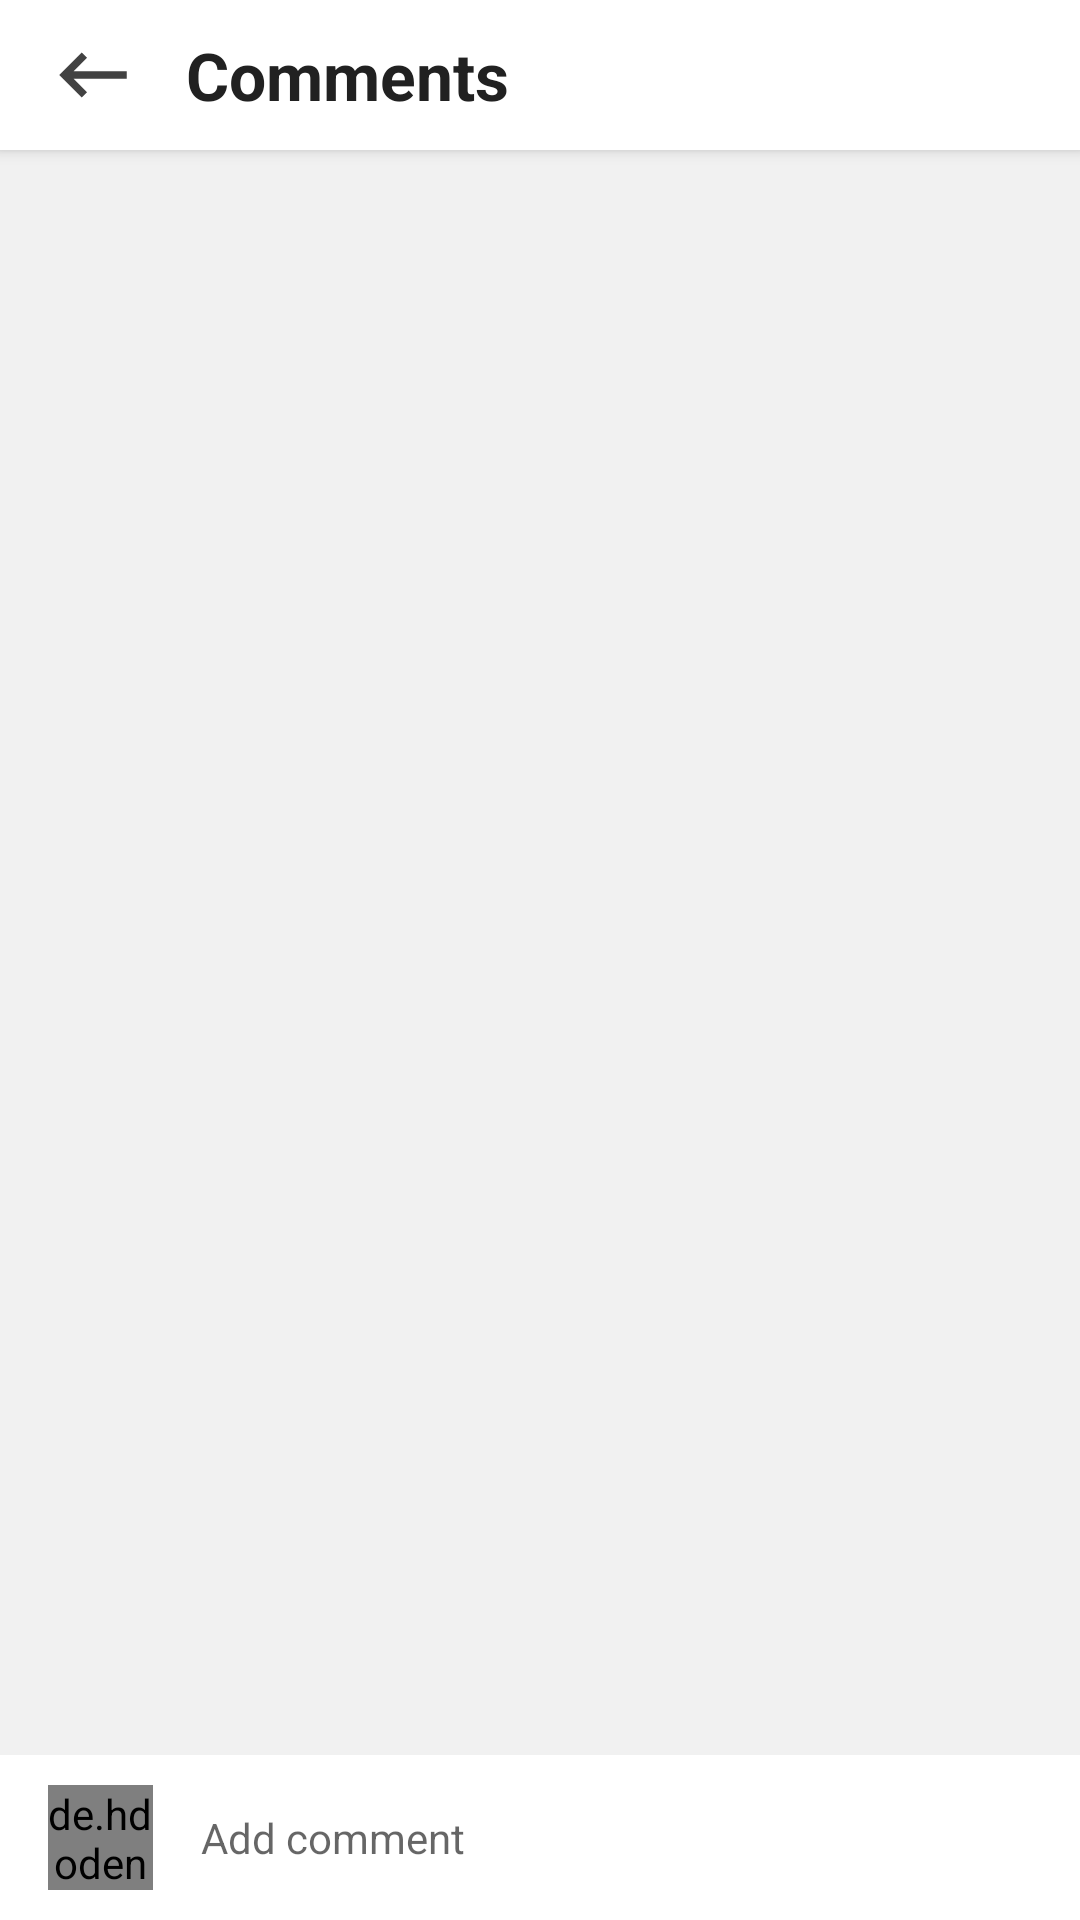

Screen size 1080*1920. Icon name, then its box in pixels as (left=x1, top=y1, right=x2, bottom=y2):
keyboard backspace: (left=59, top=52, right=127, bottom=98)
